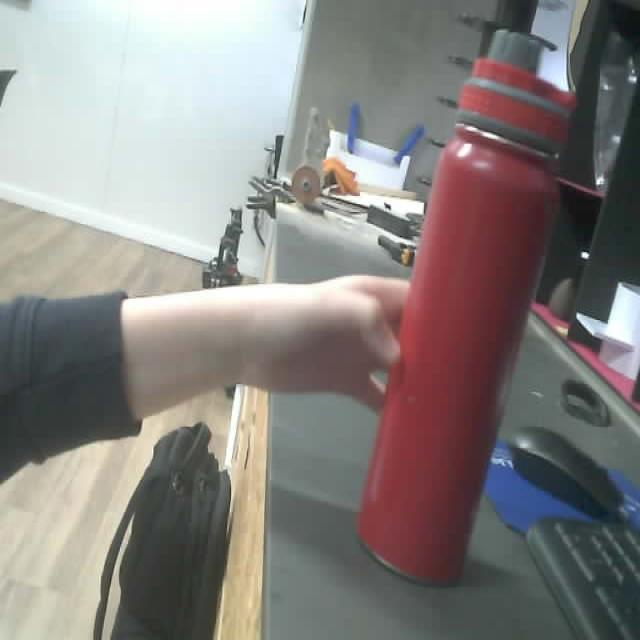water bottle: (354, 25, 581, 587)
